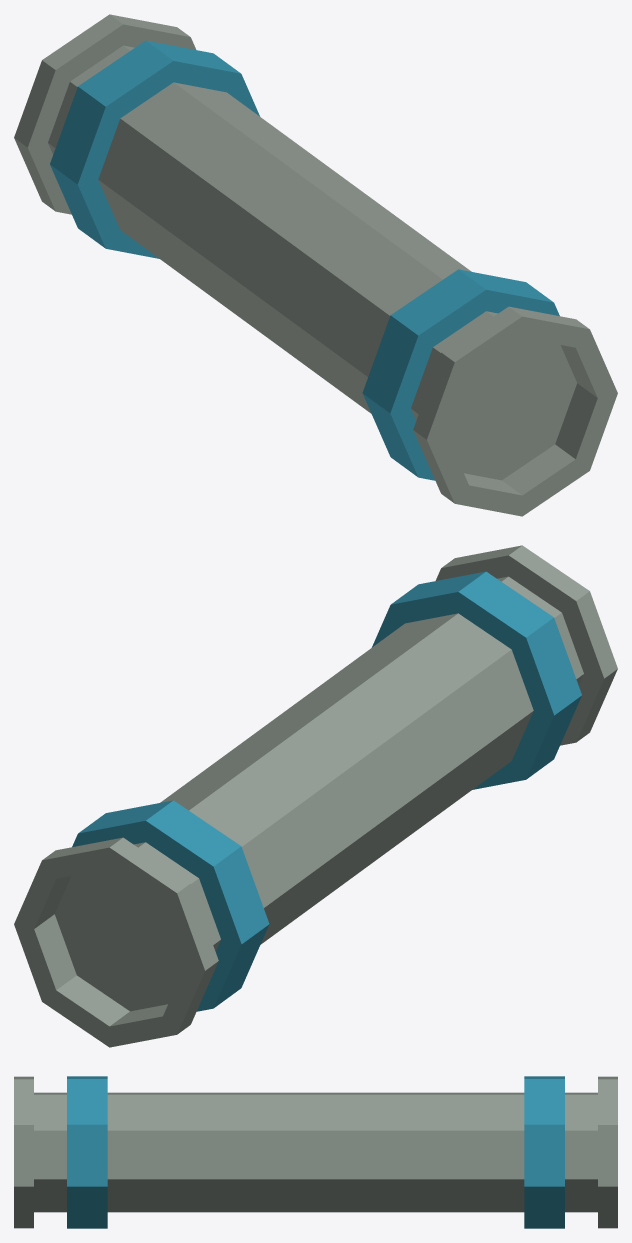
The model's file is SM_object_for_crane_02.glb.
3 renders of one model, top to bottom at view 1: azimuth 30°, elevation 25°; view 2: azimuth 150°, elevation 25°; view 3: azimuth 270°, elevation 25°, orthographic. The views are drawn at different scales.
Visible parts, largest first — view 1: SM_object_for_crane_02; view 2: SM_object_for_crane_02; view 3: SM_object_for_crane_02.
Part boxes in pixels (bbox=[...]): SM_object_for_crane_02: bbox=[14, 14, 617, 516]; SM_object_for_crane_02: bbox=[14, 545, 617, 1047]; SM_object_for_crane_02: bbox=[14, 1076, 617, 1228].
Size of the model in its own units: 0.9527 by 0.9527 by 3.55.
1 material, 1 textured.
